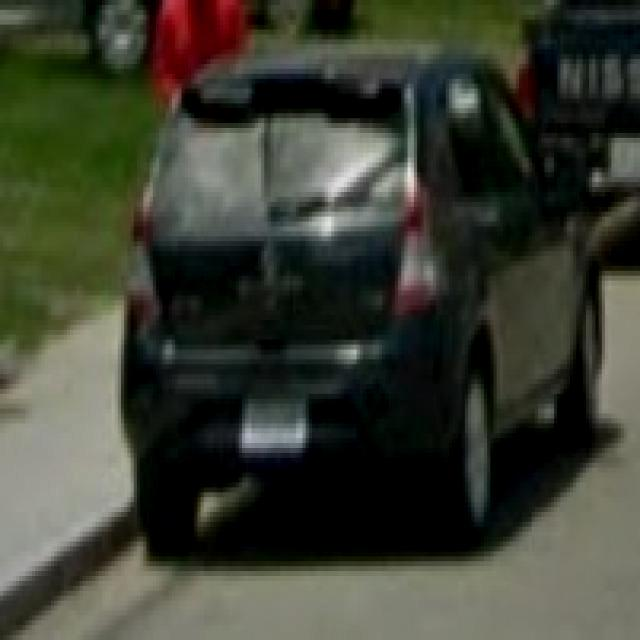car: (132, 55, 610, 563)
